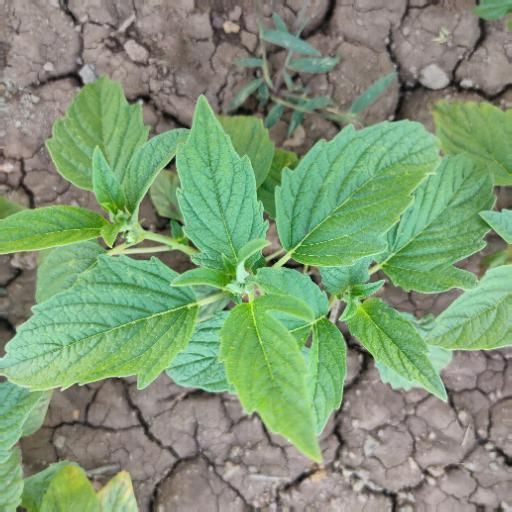crop: (12, 70, 488, 467)
